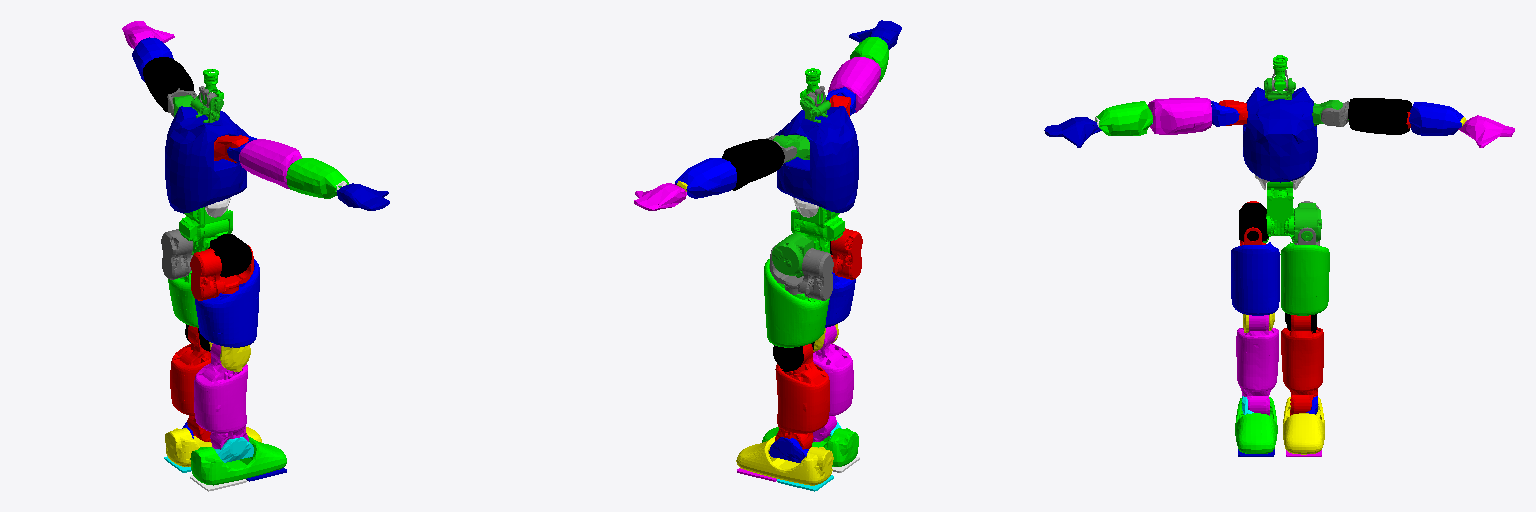
--- Facts derived from the render (not from the file) ---
3 views of the same robot in one strip: view 1: azimuth 30°, elevation 25°; view 2: azimuth 150°, elevation 25°; view 3: azimuth 270°, elevation 25° (orthographic).
Robot: iCub — 48 links, 47 joints (32 revolute, 15 fixed); root link root_link; default pose: all joints at 0 but 2 set to mid-range because 0 is outside their limits (r_shoulder_roll = 1.53, l_shoulder_roll = 1.53).
Visible links, largest first — view 1: chest, r_lower_leg, r_hip_3, r_ankle_2, l_lower_leg, r_upper_arm, r_hip_2, r_forearm, l_upper_arm, l_hip_2, r_hip_1, l_ankle_2 (+10 smaller); view 2: chest, l_lower_leg, l_hip_3, l_ankle_2, r_lower_leg, l_upper_arm, l_hip_2, l_forearm, r_upper_arm, r_hip_2, l_hip_1, r_ankle_2 (+8 smaller); view 3: chest, r_lower_leg, r_hip_3, l_lower_leg, l_hip_3, r_upper_arm, l_upper_arm, l_ankle_2, r_ankle_2, r_forearm, l_forearm, l_hand (+5 smaller).
Boxes of the visible links, box(x1,y1,x2,y2) form: chest: box(165, 106, 248, 213); r_lower_leg: box(194, 343, 248, 449); r_hip_3: box(195, 259, 259, 347); r_ankle_2: box(190, 436, 286, 485); l_lower_leg: box(170, 325, 210, 441); r_upper_arm: box(239, 139, 301, 188); r_hip_2: box(190, 245, 253, 300); r_forearm: box(286, 158, 348, 198); l_upper_arm: box(143, 57, 194, 111); l_hip_2: box(161, 229, 192, 279); r_hip_1: box(208, 234, 251, 277); l_ankle_2: box(165, 427, 261, 466); chest: box(775, 106, 858, 212); l_lower_leg: box(775, 344, 829, 449); l_hip_3: box(764, 259, 829, 347); l_ankle_2: box(736, 436, 833, 485); r_lower_leg: box(813, 325, 853, 441); l_upper_arm: box(722, 139, 784, 190); l_hip_2: box(770, 245, 833, 300); l_forearm: box(675, 158, 736, 198); r_upper_arm: box(828, 57, 880, 112); r_hip_2: box(831, 228, 862, 279); l_hip_1: box(772, 233, 813, 277); r_ankle_2: box(762, 427, 858, 466); chest: box(1243, 87, 1317, 182); r_lower_leg: box(1236, 315, 1278, 415); r_hip_3: box(1231, 242, 1279, 315); l_lower_leg: box(1281, 315, 1323, 415); l_hip_3: box(1280, 242, 1329, 315); r_upper_arm: box(1148, 97, 1211, 134); l_upper_arm: box(1348, 98, 1411, 134); l_ankle_2: box(1283, 397, 1324, 454); r_ankle_2: box(1235, 397, 1277, 453); r_forearm: box(1096, 101, 1152, 135); l_forearm: box(1409, 102, 1463, 135); l_hand: box(1458, 115, 1514, 147).
Bounding box of the posed robot: 0.3292 × 1.28 × 1.13 m (x, y, z).
41 mesh visuals loaded from 42 distinct referenced files (41 ASCII STL); not drawn: 1 (reference not matched to a file when rendering).

The robot description file, URDF, robot "iCub":
<?xml version="1.0" ?>
<robot name="iCub">
  <link name="root_link">
    <inertial>
      <origin xyz="0.00317113 -0.00014949699999999998 0.025427000000000033" rpy="0 0 -1.5707963267948966"/>
      <mass value="2.52649319"/>
      <inertia ixx="0.004052537258277314" ixy="-2.0916736253220285e-06" ixz="-1.1533334776339305e-05" iyy="0.004338170443113407" iyz="0.0001520237016342299" izz="0.0023554026859211635"/>
    </inertial>
    <visual>
      <origin xyz="0 0 0.313858" rpy="0 0 -1.5707963267948966"/>
      <geometry>
        <mesh filename="package://icub_description/meshes/simmechanics/sim_icub3_root_link_prt.stl" scale="0.001 0.001 0.001"/>
      </geometry>
      <material name="green">
        <color rgba="0 1 0 1"/>
      </material>
    </visual>
    <collision>
      <origin xyz="0 0 0.313858" rpy="0 0 -1.5707963267948966"/>
      <geometry>
        <mesh filename="package://icub_description/meshes/simmechanics/sim_icub3_root_link_prt.stl" scale="0.001 0.001 0.001"/>
      </geometry>
    </collision>
  </link>
  <link name="r_hip_1">
    <inertial>
      <origin xyz="-0.002814900000000002 -0.0288454 -0.0006279999999999619" rpy="0 0 -1.5707963267948966"/>
      <mass value="2.134290199"/>
      <inertia ixx="0.0026435421721158216" ixy="3.8119607441411114e-05" ixz="-3.6217277756713986e-06" iyy="0.0020429284372709845" iyz="1.1023562629489777e-05" izz="0.002171950916930118"/>
    </inertial>
    <visual>
      <origin xyz="-0.0216 0.04054999999999986 0.313858" rpy="0 0 -1.5707963267948966"/>
      <geometry>
        <mesh filename="package://icub_description/meshes/simmechanics/sim_icub3_r_hip_1_prt.stl" scale="0.001 0.001 0.001"/>
      </geometry>
      <material name="black">
        <color rgba="0 0 0 1"/>
      </material>
    </visual>
    <collision>
      <origin xyz="-0.0216 0.04054999999999986 0.313858" rpy="0 0 -1.5707963267948966"/>
      <geometry>
        <mesh filename="package://icub_description/meshes/simmechanics/sim_icub3_r_hip_1_prt.stl" scale="0.001 0.001 0.001"/>
      </geometry>
    </collision>
  </link>
  <joint name="r_hip_pitch" type="revolute">
    <origin xyz="0.0216 -0.040549999999999996 0" rpy="0 0 0"/>
    <axis xyz="0.0 -1.0 0.0"/>
    <parent link="root_link"/>
    <child link="r_hip_1"/>
    <limit effort="50000" lower="-0.7853981633974483" upper="2.007128639793479" velocity="120.0"/>
    <dynamics damping="2.0" friction="0.0"/>
  </joint>
  <link name="r_hip_2">
    <inertial>
      <origin xyz="-0.005953899999999998 -6.729999999999237e-05 -0.03664600000000001" rpy="0 0 -1.5707963267948966"/>
      <mass value="1.779000764"/>
      <inertia ixx="0.005017321245620606" ixy="4.276118215983818e-06" ixz="-3.0414292646883787e-06" iyy="0.002992476006025625" iyz="0.0010524477725526635" izz="0.003048721181695524"/>
    </inertial>
    <visual>
      <origin xyz="0.025699999999999973 0.07364999999999984 0.3228580000000001" rpy="0 0 -1.5707963267948966"/>
      <geometry>
        <mesh filename="package://icub_description/meshes/simmechanics/sim_icub3_r_hip_2_prt.stl" scale="0.001 0.001 0.001"/>
      </geometry>
      <material name="red">
        <color rgba="1 0 0 1"/>
      </material>
    </visual>
    <collision>
      <origin xyz="0.025699999999999973 0.07364999999999984 0.3228580000000001" rpy="0 0 -1.5707963267948966"/>
      <geometry>
        <mesh filename="package://icub_description/meshes/simmechanics/sim_icub3_r_hip_2_prt.stl" scale="0.001 0.001 0.001"/>
      </geometry>
    </collision>
  </link>
  <joint name="r_hip_roll" type="revolute">
    <origin xyz="-0.0473 -0.03310000000000001 -0.009000000000000008" rpy="0 0 0"/>
    <axis xyz="-1.0 0.0 0.0"/>
    <parent link="r_hip_1"/>
    <child link="r_hip_2"/>
    <limit effort="50000" lower="-0.17453292519943295" upper="2.007128639793479" velocity="120.0"/>
    <dynamics damping="2.0" friction="0.0"/>
  </joint>
  <link name="r_hip_3">
    <inertial>
      <origin xyz="0.002330500000000001 0.012397400000000003 -0.038593000000000044" rpy="0 0 -1.5707963267948966"/>
      <mass value="2.1678368"/>
      <inertia ixx="0.003915863467597387" ixy="-2.601086379959252e-06" ixz="0.00012293074975119214" iyy="0.0036779729507837693" iyz="3.1782922099252663e-06" izz="0.0036465259675847357"/>
    </inertial>
    <visual>
      <origin xyz="-0.011000000000000025 0.07364999999999984 0.41255800000000004" rpy="0 0 -1.5707963267948966"/>
      <geometry>
        <mesh filename="package://icub_description/meshes/simmechanics/sim_icub3_r_hip_3_prt.stl" scale="0.001 0.001 0.001"/>
      </geometry>
      <material name="blue">
        <color rgba="0 0 1 1"/>
      </material>
    </visual>
    <collision>
      <origin xyz="-0.011000000000000025 0.07364999999999984 0.41255800000000004" rpy="0 0 -1.5707963267948966"/>
      <geometry>
        <mesh filename="package://icub_description/meshes/simmechanics/sim_icub3_r_hip_3_prt.stl" scale="0.001 0.001 0.001"/>
      </geometry>
    </collision>
  </link>
  <joint name="r_leg_ft_sensor" type="fixed">
    <origin xyz="0.036699999999999997 0 -0.08969999999999995" rpy="0 0 0"/>
    <parent link="r_hip_2"/>
    <child link="r_hip_3"/>
    <dynamics damping="0.1"/>
  </joint>
  <link name="r_upper_leg">
    <inertial>
      <origin xyz="0.006267499999999999 -0.004376999999999999 -0.05732899999999996" rpy="0 0 -1.5707963267948966"/>
      <mass value="0.980691904"/>
      <inertia ixx="0.00218281785834479" ixy="-4.919689000647147e-05" ixz="0.00024386118755841528" iyy="0.0026930250628850057" iyz="0.00027207835277447823" izz="0.0011180088209673262"/>
    </inertial>
    <visual>
      <origin xyz="-0.011000000000000012 0.05864999999999984 0.48345800000000005" rpy="0 0 -1.5707963267948966"/>
      <geometry>
        <mesh filename="package://icub_description/meshes/simmechanics/sim_icub3_r_upper_leg_prt.stl" scale="0.001 0.001 0.001"/>
      </geometry>
      <material name="yellow">
        <color rgba="1 1 0 1"/>
      </material>
    </visual>
    <collision>
      <origin xyz="-0.011000000000000012 0.05864999999999984 0.48345800000000005" rpy="0 0 -1.5707963267948966"/>
      <geometry>
        <mesh filename="package://icub_description/meshes/simmechanics/sim_icub3_r_upper_leg_prt.stl" scale="0.001 0.001 0.001"/>
      </geometry>
    </collision>
  </link>
  <joint name="r_hip_yaw" type="revolute">
    <origin xyz="0 0.015000000000000006 -0.07090000000000007" rpy="0 0 0"/>
    <axis xyz="0.0 0.0 -1.0"/>
    <parent link="r_hip_3"/>
    <child link="r_upper_leg"/>
    <limit effort="50000" lower="-1.3962634015954636" upper="1.3962634015954636" velocity="120.0"/>
    <dynamics damping="2.0" friction="0.0"/>
  </joint>
  <link name="r_lower_leg">
    <inertial>
      <origin xyz="-0.012638400000000003 0.022404399999999998 -0.12942700000000007" rpy="0 0 -1.5707963267948966"/>
      <mass value="5.074105512"/>
      <inertia ixx="0.05708057777820247" ixy="-7.655169857870125e-05" ixz="9.837467541293897e-05" iyy="0.05456396792571687" iyz="1.958555944612649e-05" izz="0.005675806886779712"/>
    </inertial>
    <visual>
      <origin xyz="-0.026000000000000037 0.0835499999999998 0.589658" rpy="0 0 -1.5707963267948966"/>
      <geometry>
        <mesh filename="package://icub_description/meshes/simmechanics/sim_icub3_r_lower_leg_prt.stl" scale="0.001 0.001 0.001"/>
      </geometry>
      <material name="pink">
        <color rgba="1 0 1 1"/>
      </material>
    </visual>
    <collision>
      <origin xyz="-0.026000000000000037 0.0835499999999998 0.589658" rpy="0 0 -1.5707963267948966"/>
      <geometry>
        <mesh filename="package://icub_description/meshes/simmechanics/sim_icub3_r_lower_leg_prt.stl" scale="0.001 0.001 0.001"/>
      </geometry>
    </collision>
  </link>
  <joint name="r_knee" type="revolute">
    <origin xyz="0.015000000000000003 -0.0249 -0.10619999999999996" rpy="0 0 0"/>
    <axis xyz="0.0 -1.0 0.0"/>
    <parent link="r_upper_leg"/>
    <child link="r_lower_leg"/>
    <limit effort="50000" lower="-1.2217304763960306" upper="0.08726646259971647" velocity="120.0"/>
    <dynamics damping="2.0" friction="0.0"/>
  </joint>
  <link name="r_ankle_1">
    <inertial>
      <origin xyz="-0.005962499999999999 0.0010981000000000046 -0.015748999999999902" rpy="0 0 -1.5707963267948966"/>
      <mass value="0.346176903"/>
      <inertia ixx="0.01" ixy="-3.4912488034212415e-05" ixz="-5.635271015717806e-05" iyy="0.01" iyz="-2.51373469956309e-05" izz="0.01"/>
    </inertial>
    <visual>
      <origin xyz="-0.026000000000000245 0.08304999999999924 0.8456470000000003" rpy="0 0 -1.5707963267948966"/>
      <geometry>
        <mesh filename="package://icub_description/meshes/simmechanics/sim_icub3_r_ankle_1_prt.stl" scale="0.001 0.001 0.001"/>
      </geometry>
      <material name="cyan">
        <color rgba="0 1 1 1"/>
      </material>
    </visual>
    <collision>
      <origin xyz="-0.026000000000000245 0.08304999999999924 0.8456470000000003" rpy="0 0 -1.5707963267948966"/>
      <geometry>
        <mesh filename="package://icub_description/meshes/simmechanics/sim_icub3_r_ankle_1_prt.stl" scale="0.001 0.001 0.001"/>
      </geometry>
    </collision>
  </link>
  <joint name="r_ankle_pitch" type="revolute">
    <origin xyz="0 0.0005000000000000004 -0.255989" rpy="0 0 0"/>
    <axis xyz="0.0 1.0 0.0"/>
    <parent link="r_lower_leg"/>
    <child link="r_ankle_1"/>
    <limit effort="50000" lower="-0.7853981633974483" upper="0.7853981633974483" velocity="120.0"/>
    <dynamics damping="2.0" friction="0.0"/>
  </joint>
  <link name="r_ankle_2">
    <inertial>
      <origin xyz="0.0429772 4.709999999999437e-05 -0.025934000000000013" rpy="0 0 -1.5707963267948966"/>
      <mass value="1.00828013"/>
      <inertia ixx="0.01" ixy="-4.017870761480629e-06" ixz="1.0016003725188637e-06" iyy="0.01" iyz="0.0007932901510502437" izz="0.01"/>
    </inertial>
    <visual>
      <origin xyz="0.026749999999999875 0.0648499999999391 0.8806470000000108" rpy="0 0 -1.5707963267948966"/>
      <geometry>
        <mesh filename="package://icub_description/meshes/simmechanics/sim_icub3_r_ankle_2_prt.stl" scale="0.001 0.001 0.001"/>
      </geometry>
      <material name="green">
        <color rgba="0 1 0 1"/>
      </material>
    </visual>
    <collision>
      <origin xyz="0.026749999999999875 0.0648499999999391 0.8806470000000108" rpy="0 0 -1.5707963267948966"/>
      <geometry>
        <mesh filename="package://icub_description/meshes/simmechanics/sim_icub3_r_ankle_2_prt.stl" scale="0.001 0.001 0.001"/>
      </geometry>
    </collision>
  </link>
  <joint name="r_ankle_roll" type="revolute">
    <origin xyz="-0.052750000000000005 0.018200000000000008 -0.03500000000000003" rpy="0 0 0"/>
    <axis xyz="-1.0 0.0 0.0"/>
    <parent link="r_ankle_1"/>
    <child link="r_ankle_2"/>
    <limit effort="50000" lower="-0.4363323129985824" upper="0.4363323129985824" velocity="120.0"/>
    <dynamics damping="2.0" friction="0.0"/>
  </joint>
  <link name="r_foot_rear">
    <inertial>
      <origin xyz="0.0006180999999999999 7.079999999998199e-05 0.003514000000000017" rpy="0 0 -1.5707963267948966"/>
      <mass value="0.174817799"/>
      <inertia ixx="0.01" ixy="1.562267208574721e-07" ixz="2.7893615940874046e-06" iyy="0.01" iyz="-1.261530014304943e-06" izz="0.01"/>
    </inertial>
    <visual>
      <origin xyz="0.010749999999999881 0.0648499999999391 0.9464470000000105" rpy="0 0 -1.5707963267948966"/>
      <geometry>
        <mesh filename="package://icub_description/meshes/simmechanics/sim_icub3_r_foot_rear_prt.stl" scale="0.001 0.001 0.001"/>
      </geometry>
      <material name="white">
        <color rgba="1 1 1 1"/>
      </material>
    </visual>
    <collision>
      <origin xyz="0.0 0.0 0.003" rpy="0.0 0.0 0.0"/>
      <geometry>
        <box size="0.117 0.1 0.006"/>
      </geometry>
    </collision>
  </link>
  <joint name="r_foot_rear_ft_sensor" type="fixed">
    <origin xyz="0.016 0 -0.06579999999999997" rpy="0 0 0"/>
    <parent link="r_ankle_2"/>
    <child link="r_foot_rear"/>
    <dynamics damping="0.1"/>
  </joint>
  <link name="r_sole"/>
  <joint name="r_sole_fixed_joint" type="fixed">
    <origin xyz="0.05963000000000001 0 0" rpy="0 0 0"/>
    <parent link="r_foot_rear"/>
    <child link="r_sole"/>
    <dynamics damping="0.1"/>
  </joint>
  <link name="r_foot_front">
    <inertial>
      <origin xyz="-0.0004180000000000017 0.0004849999999999993 0.005581000000000058" rpy="0 0 -1.5707963267948966"/>
      <mass value="0.17569926"/>
      <inertia ixx="0.01" ixy="-1.136706769061166e-05" ixz="2.9035165024379218e-05" iyy="0.01" iyz="6.901558256730527e-05" izz="0.01"/>
    </inertial>
    <visual>
      <origin xyz="-0.10850000000000011 0.06484999999993908 0.9464470000000105" rpy="0 0 -1.5707963267948966"/>
      <geometry>
        <mesh filename="package://icub_description/meshes/simmechanics/sim_icub3_r_foot_front_prt.stl" scale="0.001 0.001 0.001"/>
      </geometry>
      <material name="dblue">
        <color rgba="0 0 0.8 1"/>
      </material>
    </visual>
    <collision>
      <origin xyz="0.0 0.0 0.003" rpy="0.0 0.0 0.0"/>
      <geometry>
        <box size="0.117 0.1 0.006"/>
      </geometry>
    </collision>
  </link>
  <joint name="r_foot_front_ft_sensor" type="fixed">
    <origin xyz="0.13525 0 -0.06579999999999997" rpy="0 0 0"/>
    <parent link="r_ankle_2"/>
    <child link="r_foot_front"/>
    <dynamics damping="0.1"/>
  </joint>
  <link name="l_hip_1">
    <inertial>
      <origin xyz="-0.0022035000000000006 0.02879769999999999 -0.0004929999999999657" rpy="0 0 -1.5707963267948966"/>
      <mass value="2.108461113"/>
      <inertia ixx="0.002494176095266037" ixy="-3.149332612725099e-05" ixz="-6.185191269212846e-08" iyy="0.0019487861002349385" iyz="1.6856055884649114e-05" izz="0.002100980041206055"/>
    </inertial>
    <visual>
      <origin xyz="-0.02159999999999998 -0.040449999999999674 0.3138580000000002" rpy="0 0 -1.5707963267948966"/>
      <geometry>
        <mesh filename="package://icub_description/meshes/simmechanics/sim_icub3_l_hip_1_prt.stl" scale="0.001 0.001 0.001"/>
      </geometry>
      <material name="dgreen">
        <color rgba="0.1 0.8 0.1 1"/>
      </material>
    </visual>
    <collision>
      <origin xyz="-0.02159999999999998 -0.040449999999999674 0.3138580000000002" rpy="0 0 -1.5707963267948966"/>
      <geometry>
        <mesh filename="package://icub_description/meshes/simmechanics/sim_icub3_l_hip_1_prt.stl" scale="0.001 0.001 0.001"/>
      </geometry>
    </collision>
  </link>
  <joint name="l_hip_pitch" type="revolute">
    <origin xyz="0.0216 0.04045000000000001 0" rpy="0 0 0"/>
    <axis xyz="0.0 -1.0 0.0"/>
    <parent link="root_link"/>
    <child link="l_hip_1"/>
    <limit effort="50000" lower="-0.7853981633974483" upper="2.007128639793479" velocity="120.0"/>
    <dynamics damping="2.0" friction="0.0"/>
  </joint>
  <link name="l_hip_2">
    <inertial>
      <origin xyz="-0.005948600000000005 8.049999999999724e-05 -0.03665299999999999" rpy="0 0 -1.5707963267948966"/>
      <mass value="1.781270621"/>
      <inertia ixx="0.005016924019346909" ixy="-3.6012233957638846e-06" ixz="2.765821282814272e-06" iyy="0.002993346117312504" iyz="0.0010518897656770735" izz="0.0030501492995877824"/>
    </inertial>
    <visual>
      <origin xyz="0.025649999999999923 -0.07354999999999969 0.32285800000000037" rpy="0 0 -1.5707963267948966"/>
      <geometry>
        <mesh filename="package://icub_description/meshes/simmechanics/sim_icub3_l_hip_2_prt.stl" scale="0.001 0.001 0.001"/>
      </geometry>
      <material name="gray">
        <color rgba="0.5 0.5 0.5 1"/>
      </material>
    </visual>
    <collision>
      <origin xyz="0.025649999999999923 -0.07354999999999969 0.32285800000000037" rpy="0 0 -1.5707963267948966"/>
      <geometry>
        <mesh filename="package://icub_description/meshes/simmechanics/sim_icub3_l_hip_2_prt.stl" scale="0.001 0.001 0.001"/>
      </geometry>
    </collision>
  </link>
  <joint name="l_hip_roll" type="revolute">
    <origin xyz="-0.04725 0.0331 -0.009000000000000008" rpy="0 0 0"/>
    <axis xyz="1.0 0.0 0.0"/>
    <parent link="l_hip_1"/>
    <child link="l_hip_2"/>
    <limit effort="50000" lower="-0.17453292519943295" upper="2.007128639793479" velocity="120.0"/>
    <dynamics damping="2.0" friction="0.0"/>
  </joint>
  <link name="l_hip_3">
    <inertial>
      <origin xyz="0.002293400000000001 -0.012390400000000003 -0.038493" rpy="0 0 -1.5707963267948966"/>
      <mass value="2.169151426"/>
      <inertia ixx="0.003885797314760429" ixy="4.89921299719944e-06" ixz="-0.00013036358708752834" iyy="0.0036443128569834836" iyz="6.411637921060423e-06" izz="0.003646497594763865"/>
    </inertial>
    <visual>
      <origin xyz="-0.011050000000000072 -0.07354999999999969 0.4125580000000003" rpy="0 0 -1.5707963267948966"/>
      <geometry>
        <mesh filename="package://icub_description/meshes/simmechanics/sim_icub3_l_hip_3_prt.stl" scale="0.001 0.001 0.001"/>
      </geometry>
      <material name="green">
        <color rgba="0 1 0 1"/>
      </material>
    </visual>
    <collision>
      <origin xyz="-0.011050000000000072 -0.07354999999999969 0.4125580000000003" rpy="0 0 -1.5707963267948966"/>
      <geometry>
        <mesh filename="package://icub_description/meshes/simmechanics/sim_icub3_l_hip_3_prt.stl" scale="0.001 0.001 0.001"/>
      </geometry>
    </collision>
  </link>
  <joint name="l_leg_ft_sensor" type="fixed">
    <origin xyz="0.036699999999999997 0 -0.08969999999999995" rpy="0 0 0"/>
    <parent link="l_hip_2"/>
    <child link="l_hip_3"/>
    <dynamics damping="0.1"/>
  </joint>
  <link name="l_upper_leg">
    <inertial>
      <origin xyz="0.006410100000000002 0.0044995000000000104 -0.05761399999999994" rpy="0 0 -1.5707963267948966"/>
      <mass value="0.968264435"/>
      <inertia ixx="0.0021371558939666238" ixy="5.0592852351204366e-05" ixz="-0.00024733406954523924" iyy="0.002651562334995458" iyz="0.0002558564384367833" izz="0.0011079552445972768"/>
    </inertial>
    <visual>
      <origin xyz="-0.01105 -0.058549999999999776 0.48345800000000044" rpy="0 0 -1.5707963267948966"/>
      <geometry>
        <mesh filename="package://icub_description/meshes/simmechanics/sim_icub3_l_upper_leg_prt.stl" scale="0.001 0.001 0.001"/>
      </geometry>
      <material name="black">
        <color rgba="0 0 0 1"/>
      </material>
    </visual>
    <collision>
      <origin xyz="-0.01105 -0.058549999999999776 0.48345800000000044" rpy="0 0 -1.5707963267948966"/>
      <geometry>
        <mesh filename="package://icub_description/meshes/simmechanics/sim_icub3_l_upper_leg_prt.stl" scale="0.001 0.001 0.001"/>
      </geometry>
    </collision>
  </link>
  <joint name="l_hip_yaw" type="revolute">
    <origin xyz="0 -0.015000000000000006 -0.07090000000000007" rpy="0 0 0"/>
    <axis xyz="0.0 0.0 1.0"/>
    <parent link="l_hip_3"/>
    <child link="l_upper_leg"/>
    <limit effort="50000" lower="-1.3962634015954636" upper="1.3962634015954636" velocity="120.0"/>
    <dynamics damping="2.0" friction="0.0"/>
  </joint>
  <link name="l_lower_leg">
    <inertial>
      <origin xyz="-0.012714199999999998 -0.022607400000000014 -0.12817599999999996" rpy="0 0 -1.5707963267948966"/>
      <mass value="5.063049414"/>
      <inertia ixx="0.0567854017259985" ixy="6.344497428140121e-05" ixz="-0.00012637525838973313" iyy="0.054305487902395026" iyz="-5.473978729135758e-05" izz="0.005671522530034296"/>
    </inertial>
    <visual>
      <origin xyz="-0.026050000000000094 -0.08344999999999987 0.5896580000000003" rpy="0 0 -1.5707963267948966"/>
      <geometry>
        <mesh filename="package://icub_description/meshes/simmechanics/sim_icub3_l_lower_leg_prt.stl" scale="0.001 0.001 0.001"/>
      </geometry>
      <material name="red">
        <color rgba="1 0 0 1"/>
      </material>
    </visual>
    <collision>
      <origin xyz="-0.026050000000000094 -0.08344999999999987 0.5896580000000003" rpy="0 0 -1.5707963267948966"/>
      <geometry>
        <mesh filename="package://icub_description/meshes/simmechanics/sim_icub3_l_lower_leg_prt.stl" scale="0.001 0.001 0.001"/>
      </geometry>
    </collision>
  </link>
  <joint name="l_knee" type="revolute">
    <origin xyz="0.015 0.024900000000000012 -0.10619999999999996" rpy="0 0 0"/>
    <axis xyz="0.0 -1.0 0.0"/>
    <parent link="l_upper_leg"/>
    <child link="l_lower_leg"/>
    <limit effort="50000" lower="-1.2217304763960306" upper="0.08726646259971647" velocity="120.0"/>
    <dynamics damping="2.0" friction="0.0"/>
  </joint>
  <link name="l_ankle_1">
    <inertial>
      <origin xyz="-0.005967799999999999 -0.0010993000000000114 -0.015761000000000025" rpy="0 0 -1.5707963267948966"/>
      <mass value="0.346176903"/>
      <inertia ixx="0.01" ixy="3.500555218899747e-05" ixz="5.595236405229479e-05" iyy="0.01" iyz="-2.5797402621896045e-05" izz="0.01"/>
    </inertial>
    <visual>
      <origin xyz="-0.026050000000000184 -0.08294999999999977 0.8456470000000004" rpy="0 0 -1.5707963267948966"/>
      <geometry>
        <mesh filename="package://icub_description/meshes/simmechanics/sim_icub3_l_ankle_1_prt.stl" scale="0.001 0.001 0.001"/>
      </geometry>
      <material name="blue">
        <color rgba="0 0 1 1"/>
      </material>
    </visual>
    <collision>
      <origin xyz="-0.026050000000000184 -0.08294999999999977 0.8456470000000004" rpy="0 0 -1.5707963267948966"/>
      <geometry>
        <mesh filename="package://icub_description/meshes/simmechanics/sim_icub3_l_ankle_1_prt.stl" scale="0.001 0.001 0.001"/>
      </geometry>
    </collision>
  </link>
  <joint name="l_ankle_pitch" type="revolute">
    <origin xyz="0 -0.0005000000000000004 -0.255989" rpy="0 0 0"/>
    <axis xyz="0.0 1.0 0.0"/>
    <parent link="l_lower_leg"/>
    <child link="l_ankle_1"/>
    <limit effort="50000" lower="-0.7853981633974483" upper="0.7853981633974483" velocity="120.0"/>
    <dynamics damping="2.0" friction="0.0"/>
  </joint>
  <link name="l_ankle_2">
    <inertial>
      <origin xyz="0.0429784 -5.8499999999989116e-05 -0.02598899999999993" rpy="0 0 -1.5707963267948966"/>
      <mass value="1.011533592"/>
      <inertia ixx="0.01" ixy="3.898018973804329e-06" ixz="-2.6222640395637156e-06" iyy="0.01" iyz="0.0007906528913743961" izz="0.01"/>
    </inertial>
    <visual>
      <origin xyz="0.026700000000000015 -0.06475000000001183 0.8806469999999995" rpy="0 0 -1.5707963267948966"/>
      <geometry>
        <mesh filename="package://icub_description/meshes/simmechanics/sim_icub3_l_ankle_2_prt.stl" scale="0.001 0.001 0.001"/>
      </geometry>
      <material name="yellow">
        <color rgba="1 1 0 1"/>
      </material>
    </visual>
    <collision>
      <origin xyz="0.026700000000000015 -0.06475000000001183 0.8806469999999995" rpy="0 0 -1.5707963267948966"/>
      <geometry>
        <mesh filename="package://icub_description/meshes/simmechanics/sim_icub3_l_ankle_2_prt.stl" scale="0.001 0.001 0.001"/>
      </geometry>
    </collision>
  </link>
  <joint name="l_ankle_roll" type="revolute">
    <origin xyz="-0.052750000000000005 -0.018200000000000008 -0.03500000000000003" rpy="0 0 0"/>
    <axis xyz="1.0 0.0 0.0"/>
    <parent link="l_ankle_1"/>
    <child link="l_ankle_2"/>
    <limit effort="50000" lower="-0.4363323129985824" upper="0.4363323129985824" velocity="120.0"/>
    <dynamics damping="2.0" friction="0.0"/>
  </joint>
  <link name="l_foot_front">
    <inertial>
      <origin xyz="7.700000000000762e-05 -3.990000000000937e-05 0.004256999999999955" rpy="0 0 -1.5707963267948966"/>
      <mass value="0.175038164"/>
      <inertia ixx="0.01" ixy="3.468975818270962e-07" ixz="2.6549198249941107e-07" iyy="0.01" iyz="3.419436179908361e-05" izz="0.01"/>
    </inertial>
    <visual>
      <origin xyz="-0.10854999999999998 -0.06475000000001183 0.9464469999999993" rpy="0 0 -1.5707963267948966"/>
      <geometry>
        <mesh filename="package://icub_description/meshes/simmechanics/sim_icub3_l_foot_front_prt.stl" scale="0.001 0.001 0.001"/>
      </geometry>
      <material name="pink">
        <color rgba="1 0 1 1"/>
      </material>
    </visual>
    <collision>
      <origin xyz="0.0 0.0 0.003" rpy="0.0 0.0 0.0"/>
      <geometry>
        <box size="0.117 0.1 0.006"/>
      </geometry>
    </collision>
  </link>
  <joint name="l_foot_front_ft_sensor" type="fixed">
    <origin xyz="0.13524999999999998 0 -0.06579999999999997" rpy="0 0 0"/>
    <parent link="l_ankle_2"/>
    <child link="l_foot_front"/>
    <dynamics damping="0.1"/>
  </joint>
  <link name="l_foot_rear">
    <inertial>
      <origin xyz="0.0005056000000000001 3.350000000000575e-05 0.003658999999999968" rpy="0 0 -1.5707963267948966"/>
      <mass value="0.174597434"/>
      <inertia ixx="0.01" ixy="-3.730425576901001e-07" ixz="3.3038909914027564e-06" iyy="0.01" iyz="7.963142231236676e-06" izz="0.01"/>
    </inertial>
    <visual>
      <origin xyz="0.010700000000000006 -0.06475000000001183 0.9464469999999993" rpy="0 0 -1.5707963267948966"/>
      <geometry>
        <mesh filename="package://icub_description/meshes/simmechanics/sim_icub3_l_foot_rear_prt.stl" scale="0.001 0.001 0.001"/>
      </geometry>
      <material name="cyan">
        <color rgba="0 1 1 1"/>
      </material>
    </visual>
    <collision>
      <origin xyz="0.0 0.0 0.003" rpy="0.0 0.0 0.0"/>
      <geometry>
        <box size="0.117 0.1 0.006"/>
      </geometry>
    </collision>
  </link>
  <joint name="l_foot_rear_ft_sensor" type="fixed">
    <origin xyz="0.016 0 -0.06579999999999997" rpy="0 0 0"/>
    <parent link="l_ankle_2"/>
    <child link="l_foot_rear"/>
    <dynamics damping="0.1"/>
  </joint>
  <link name="l_sole"/>
  <joint name="l_sole_fixed_joint" type="fixed">
    <origin xyz="0.05963 0 0" rpy="0 0 0"/>
    <parent link="l_foot_rear"/>
    <child link="l_sole"/>
    <dynamics damping="0.1"/>
  </joint>
  <link name="torso_1">
    <inertial>
      <origin xyz="-0.00752632 0.000684313 0.05308400000000002" rpy="0 0 -1.5707963267948966"/>
      <mass value="1.714262538"/>
      <inertia ixx="0.0033513877542161704" ixy="5.189868240267766e-06" ixz="7.72546923286231e-06" iyy="0.002577063721714248" iyz="-0.0003083355422269907" izz="0.002042143444277807"/>
    </inertial>
    <visual>
      <origin xyz="0 0 0.25335800000000014" rpy="0 0 -1.5707963267948966"/>
      <geometry>
        <mesh filename="package://icub_description/meshes/simmechanics/sim_icub3_torso_1_prt.stl" scale="0.001 0.001 0.001"/>
      </geometry>
      <material name="green">
        <color rgba="0 1 0 1"/>
      </material>
    </visual>
    <collision>
      <origin xyz="0 0 0.25335800000000014" rpy="0 0 -1.5707963267948966"/>
      <geometry>
        <mesh filename="package://icub_description/meshes/simmechanics/sim_icub3_torso_1_prt.stl" scale="0.001 0.001 0.001"/>
      </geometry>
    </collision>
  </link>
  <joint name="torso_roll" type="revolute">
    <origin xyz="0 0 0.0605" rpy="0 0 0"/>
    <axis xyz="-1.0 0.0 0.0"/>
    <parent link="root_link"/>
    <child link="torso_1"/>
    <limit effort="50000" lower="-0.4014257279586958" upper="0.4014257279586958" velocity="120.0"/>
    <dynamics damping="2.0" friction="0.0"/>
  </joint>
  <link name="torso_2">
    <inertial>
      <origin xyz="0.0006802240000000001 0.0015534 0.05118500000000001" rpy="0 0 -1.5707963267948966"/>
      <mass value="1.374672951"/>
      <inertia ixx="0.0021403904410333815" ixy="-1.6823426685005056e-06" ixz="-0.00011213001148794212" iyy="0.002710313811866755" iyz="1.3971067086438227e-05" izz="0.0015476455452444666"/>
    </inertial>
    <visual>
      <origin xyz="0 0 0.18085800000000013" rpy="0 0 -1.5707963267948966"/>
      <geometry>
        <mesh filename="package://icub_description/meshes/simmechanics/sim_icub3_torso_2_prt.stl" scale="0.001 0.001 0.001"/>
      </geometry>
      <material name="white">
        <color rgba="1 1 1 1"/>
      </material>
    </visual>
    <collision>
      <origin xyz="0 0 0.18085800000000013" rpy="0 0 -1.5707963267948966"/>
      <geometry>
        <mesh filename="package://icub_description/meshes/simmechanics/sim_icub3_torso_2_prt.stl" scale="0.001 0.001 0.001"/>
      </geometry>
    </collision>
  </link>
  <joint name="torso_pitch" type="revolute">
    <origin xyz="0 0 0.07250000000000001" rpy="0 0 0"/>
    <axis xyz="0.0 1.0 0.0"/>
    <parent link="torso_1"/>
    <child link="torso_2"/>
    <limit effort="50000" lower="-0.3141592653589793" upper="0.7853981633974483" velocity="120.0"/>
    <dynamics damping="2.0" friction="0.0"/>
  </joint>
  <link name="chest">
    <inertial>
      <origin xyz="-0.00433942 -6.07081e-05 0.06080120000000001" rpy="0 0 -1.5707963267948966"/>
      <mass value="5.771074695"/>
      <inertia ixx="0.028334441193895898" ixy="5.239833478049791e-05" ixz="0.0001456075712956853" iyy="0.02463845124958448" iyz="-0.00252919810357917" izz="0.024688861000098004"/>
    </inertial>
    <visual>
      <origin xyz="0 0 0.11638800000000013" rpy="0 0 -1.5707963267948966"/>
      <geometry>
        <mesh filename="package://icub_description/meshes/simmechanics/sim_icub3_chest_prt.stl" scale="0.001 0.001 0.001"/>
      </geometry>
      <material name="dblue">
        <color rgba="0 0 0.8 1"/>
      </material>
    </visual>
    <collision>
      <origin xyz="0 0 0.11638800000000013" rpy="0 0 -1.5707963267948966"/>
      <geometry>
        <mesh filename="package://icub_description/meshes/simmechanics/sim_icub3_chest_prt.stl" scale="0.001 0.001 0.001"/>
      </geometry>
    </collision>
  </link>
  <joint name="torso_yaw" type="revolute">
    <origin xyz="0 0 0.06447000000000001" rpy="0 0 0"/>
    <axis xyz="0.0 0.0 -1.0"/>
    <parent link="torso_2"/>
    <child link="chest"/>
    <limit effort="50000" lower="-0.7504915783575618" upper="0.7504915783575618" velocity="120.0"/>
    <dynamics damping="2.0" friction="0.0"/>
  </joint>
  <link name="chest_depth_frame"/>
  <joint name="chest_depth_frame_fixed_joint" type="fixed">
    <origin xyz="0.0894115 0.0175 0.09929950000000001" rpy="-1.5707963267948968 0 -1.5707963267948968"/>
    <parent link="chest"/>
    <child link="chest_depth_frame"/>
    <dynamics damping="0.1"/>
  </joint>
  <link name="chest_rgb_frame"/>
  <joint name="chest_rgb_frame_fixed_joint" type="fixed">
    <origin xyz="0.0894115 -0.0115 0.09929950000000001" rpy="-1.5707963267948968 0 -1.5707963267948968"/>
    <parent link="chest"/>
    <child link="chest_rgb_frame"/>
    <dynamics damping="0.1"/>
  </joint>
  <link name="neck_1">
    <inertial>
      <origin xyz="-0.0021259300000000003 0.00033753499999999997 0.031454700000000016" rpy="-1.5707963267948968 0 -1.5707963267948968"/>
      <mass value="0.359964395"/>
      <inertia ixx="0.00017575884401652112" ixy="-8.640042073685441e-06" ixz="-1.4551961415933398e-05" iyy="0.00026164457458078367" iyz="5.4539188590076795e-06" izz="0.00027752506463589357"/>
    </inertial>
    <visual>
      <origin xyz="0.00865 0 0.049000000000000016" rpy="-1.5707963267948968 0 -1.5707963267948968"/>
      <geometry>
        <mesh filename="package://icub_description/meshes/simmechanics/sim_head_neck_1_prt.stl" scale="0.001 0.001 0.001"/>
      </geometry>
      <material name="dgreen">
        <color rgba="0.1 0.8 0.1 1"/>
      </material>
    </visual>
    <collision>
      <origin xyz="0.00865 0 0.049000000000000016" rpy="-1.5707963267948968 0 -1.5707963267948968"/>
      <geometry>
        <mesh filename="package://icub_description/meshes/simmechanics/sim_head_neck_1_prt.stl" scale="0.001 0.001 0.001"/>
      </geometry>
    </collision>
  </link>
  <joint name="neck_fixed_joint" type="fixed">
    <origin xyz="-0.00378849 0 0.1652995" rpy="0 0 0"/>
    <parent link="chest"/>
    <child link="neck_1"/>
    <dynamics damping="0.1"/>
  </joint>
  <link name="neck_2">
    <inertial>
      <origin xyz="-0.0063756 3.63093e-05 0.006597499999999992" rpy="-1.5707963267948968 0 -1.5707963267948968"/>
      <mass value="0.118740971"/>
      <inertia ixx="3.836881878953795e-05" ixy="5.576292542558762e-08" ixz="9.453729207583973e-08" iyy="3.6566268258439336e-05" iyz="-8.883645056458357e-06" izz="4.484708647035341e-05"/>
    </inertial>
    <visual>
      <origin xyz="0 0 0" rpy="-1.5707963267948968 0 -1.5707963267948968"/>
      <geometry>
        <mesh filename="package://icub_description/meshes/simmechanics/sim_head_neck_2_prt.stl" scale="0.001 0.001 0.001"/>
      </geometry>
      <material name="gray">
        <color rgba="0.5 0.5 0.5 1"/>
      </material>
    </visual>
    <collision>
      <origin xyz="0 0 0" rpy="-1.5707963267948968 0 -1.5707963267948968"/>
      <geometry>
        <mesh filename="package://icub_description/meshes/simmechanics/sim_head_neck_2_prt.stl" scale="0.001 0.001 0.001"/>
      </geometry>
    </collision>
  </link>
  <joint name="neck_pitch" type="revolute">
    <origin xyz="0.00865 0 0.049000000000000016" rpy="0 0 0"/>
    <axis xyz="0.0 -1.0 0.0"/>
    <parent link="neck_1"/>
    <child link="neck_2"/>
    <limit effort="50000" lower="-0.5235987755982988" upper="0.3839724354387525" velocity="120.0"/>
    <dynamics damping="2.0" friction="0.0"/>
  </joint>
  <link name="neck_3">
    <inertial>
      <origin xyz="0.0012653999999999999 -8.218820291562122e-05 0.03610899999999334" rpy="-1.5707963267948968 0 -1.5707963267948968"/>
      <mass value="0.179822835"/>
      <inertia ixx="0.00011705938532913803" ixy="-5.125016528788269e-07" ixz="-3.5211636372789045e-07" iyy="3.9042209951899456e-05" iyz="-9.756793036595435e-06" izz="0.0001047000115866525"/>
    </inertial>
    <visual>
      <origin xyz="0 0 -0.009500499999999995" rpy="-1.5707963267948968 0 -1.5707963267948968"/>
      <geometry>
        <mesh filename="package://icub_description/meshes/simmechanics/sim_head_neck_3_prt.stl" scale="0.001 0.001 0.001"/>
      </geometry>
      <material name="green">
        <color rgba="0 1 0 1"/>
      </material>
    </visual>
    <collision>
      <origin xyz="0 0 -0.009500499999999995" rpy="-1.5707963267948968 0 -1.5707963267948968"/>
      <geometry>
        <mesh filename="package://icub_description/meshes/simmechanics/sim_head_neck_3_prt.stl" scale="0.001 0.001 0.001"/>
      </geometry>
    </collision>
  </link>
  <joint name="neck_roll" type="revolute">
    <origin xyz="0 0 0.009500499999999995" rpy="0 0 0"/>
    <axis xyz="1.0 0.0 0.0"/>
    <parent link="neck_2"/>
    <child link="neck_3"/>
    <limit effort="50000" lower="-0.3490658503988659" upper="0.3490658503988659" velocity="120.0"/>
    <dynamics damping="2.0" friction="0.0"/>
  </joint>
  <link name="head">
    <inertial>
      <origin xyz="-0.02065171000002118 0.0005260309913323862 0.027897000000042443" rpy="-1.5707963267948966 0 -1.5707963267948966"/>
      <mass value="1.831737118"/>
      <inertia ixx="0.007475075585024412" ixy="4.7924162038447815e-05" ixz="4.818377698242177e-05" iyy="0.007242282789724778" iyz="-0.00018904885945743614" izz="0.005471491343818336"/>
    </inertial>
    <visual>
      <origin xyz="0 0 -0.07865050000000001" rpy="-1.5707963267948966 0 -1.5707963267948966"/>
      <geometry>
        <mesh filename="package://icub_description/meshes/simmechanics/sim_head_head_prt.stl" scale="0.001 0.001 0.001"/>
      </geometry>
      <material name="black">
        <color rgba="0 0 0 1"/>
      </material>
    </visual>
    <collision>
      <origin xyz="0 0 -0.07865050000000001" rpy="-1.5707963267948966 0 -1.5707963267948966"/>
      <geometry>
        <mesh filename="package://icub_description/meshes/simmechanics/sim_head_head_prt.stl" scale="0.001 0.001 0.001"/>
      </geometry>
    </collision>
  </link>
  <joint name="neck_yaw" type="revolute">
    <origin xyz="0 0 0.06915000000000002" rpy="0 0 0"/>
    <axis xyz="-1.6255499221370677e-21 -1.0999983743979075e-15 1.0"/>
    <parent link="neck_3"/>
    <child link="head"/>
    <limit effort="50000" lower="-0.7853981633974483" upper="0.7853981633974483" velocity="120.0"/>
    <dynamics damping="2.0" friction="0.0"/>
  </joint>
  <link name="imu_frame"/>
  <joint name="imu_frame_fixed_joint" type="fixed">
    <origin xyz="0.0034999999997785457 0.0054999999863750895 0.1013340000004441" rpy="-3.141592653589793 0 -1.570796326794897"/>
    <parent link="head"/>
    <child link="imu_frame"/>
    <dynamics damping="0.1"/>
  </joint>
  <link name="r_shoulder_1">
    <inertial>
      <origin xyz="0.00026441971857374055 -0.05747129038042943 0.0004210903629773867" rpy="-0.06688725064450136 0.24445256247619251 -1.840815419889917"/>
      <mass value="1.380716446"/>
      <inertia ixx="0.01" ixy="-0.0005832833732058771" ixz="-0.0005435249287056798" iyy="0.01" iyz="-0.00015262994271578897" izz="0.01"/>
    </inertial>
    <visual>
      <origin xyz="0.03041123335618441 0.029140462447480264 0.01909577433393811" rpy="-0.06688725064450136 0.24445256247619251 -1.840815419889917"/>
      <geometry>
        <mesh filename="package://icub_description/meshes/simmechanics/sim_icub3_r_shoulder_1_prt.stl" scale="0.001 0.001 0.001"/>
      </geometry>
      <material name="red">
        <color rgba="1 0 0 1"/>
      </material>
    </visual>
    <collision>
      <origin xyz="0.03041123335618441 0.029140462447480264 0.01909577433393811" rpy="-0.06688725064450136 0.24445256247619251 -1.840815419889917"/>
      <geometry>
        <mesh filename="package://icub_description/meshes/simmechanics/sim_icub3_r_shoulder_1_prt.stl" scale="0.001 0.001 0.001"/>
      </geometry>
    </collision>
  </link>
  <joint name="r_shoulder_pitch" type="revolute">
    <origin xyz="-0.020835100000000002 -0.0397423 0.1052029" rpy="-0.25326164431680925 2.3014774394592079e-07 0.26179970938509745"/>
    <axis xyz="1.499044390054707e-07 0.9999999783534812 -1.2401537036188515e-07"/>
    <parent link="chest"/>
    <child link="r_shoulder_1"/>
    <limit effort="50000" lower="-1.53588974175501" upper="0.22689280275926285" velocity="120.0"/>
    <dynamics damping="2.0" friction="0.0"/>
  </joint>
  <link name="r_shoulder_2">
    <inertial>
      <origin xyz="0.0007118441514370015 -0.0002899713150672778 -0.027865575116629175" rpy="-0.07156446033079357 0.06196992338505823 -1.8462350402422587"/>
      <mass value="0.304658373"/>
      <inertia ixx="0.01" ixy="3.2537838826012804e-05" ixz="2.26161974125395e-05" iyy="0.01" iyz="-5.163216327773138e-05" izz="0.01"/>
    </inertial>
    <visual>
      <origin xyz="0.023893261066846312 0.14153171676199225 -0.0072523502076727205" rpy="-0.07156446033079357 0.06196992338505823 -1.8462350402422587"/>
      <geometry>
        <mesh filename="package://icub_description/meshes/simmechanics/sim_icub3_r_shoulder_2_prt.stl" scale="0.001 0.001 0.001"/>
      </geometry>
      <material name="blue">
        <color rgba="0 0 1 1"/>
      </material>
    </visual>
    <collision>
      <origin xyz="0.023893261066846312 0.14153171676199225 -0.0072523502076727205" rpy="-0.07156446033079357 0.06196992338505823 -1.8462350402422587"/>
      <geometry>
        <mesh filename="package://icub_description/meshes/simmechanics/sim_icub3_r_shoulder_2_prt.stl" scale="0.001 0.001 0.001"/>
      </geometry>
    </collision>
  </link>
  <joint name="r_shoulder_roll" type="revolute">
    <origin xyz="0.007489008185044645 -0.11150041046657978 0.0004027858966975245" rpy="0.17453306234069357 -0.053747792579130614 -6.132332688812785e-07"/>
    <axis xyz="-0.9999998262417886 4.2105014356162707e-08 2.4630481189336084e-08"/>
    <parent link="r_shoulder_1"/>
    <child link="r_shoulder_2"/>
    <limit effort="50000" lower="0.20943951023931956" upper="2.8448866807507573" velocity="120.0"/>
    <dynamics damping="2.0" friction="0.0"/>
  </joint>
  <link name="r_shoulder_3">
    <inertial>
      <origin xyz="-8.928496484206933e-05 -3.376971940446949e-05 -0.00759450025288725" rpy="-0.07156446033079357 0.06196992338505823 -1.8462350402422587"/>
      <mass value="0.24467077"/>
      <inertia ixx="0.01" ixy="5.557727008657165e-07" ixz="-2.7194783592437544e-06" iyy="0.01" iyz="-3.2422643569677497e-06" izz="0.01"/>
    </inertial>
    <visual>
      <origin xyz="0.030743207452236198 0.1415314977120317 0.04704763137021827" rpy="-0.07156446033079357 0.06196992338505823 -1.8462350402422587"/>
      <geometry>
        <mesh filename="package://icub_description/meshes/simmechanics/sim_icub3_r_shoulder_3_prt.stl" scale="0.001 0.001 0.001"/>
      </geometry>
      <material name="yellow">
        <color rgba="1 1 0 1"/>
      </material>
    </visual>
    <collision>
      <origin xyz="0.030743207452236198 0.1415314977120317 0.04704763137021827" rpy="-0.07156446033079357 0.06196992338505823 -1.8462350402422587"/>
      <geometry>
        <mesh filename="package://icub_description/meshes/simmechanics/sim_icub3_r_shoulder_3_prt.stl" scale="0.001 0.001 0.001"/>
      </geometry>
    </collision>
  </link>
  <joint name="r_arm_ft_sensor" type="fixed">
    <origin xyz="-0.006849946385389875 2.1904996055921444e-07 -0.05429998157789099" rpy="0 0 0"/>
    <parent link="r_shoulder_2"/>
    <child link="r_shoulder_3"/>
    <dynamics damping="0.1"/>
  </joint>
  <link name="r_upper_arm">
    <inertial>
      <origin xyz="-0.000798982178358984 -0.002084481892803941 -0.05063856093223067" rpy="-0.07156446033079357 0.06196992338505823 -1.8462350402422587"/>
      <mass value="1.960447492"/>
      <inertia ixx="0.004119602086814579" ixy="1.158223128604559e-05" ixz="0.00020349650199902935" iyy="0.003957940948860767" iyz="0.00020664971228357863" izz="0.0020250627669371347"/>
    </inertial>
    <visual>
      <origin xyz="0.030743125543818577 0.14153107587930094 0.06954757274337194" rpy="-0.07156446033079357 0.06196992338505823 -1.8462350402422587"/>
      <geometry>
        <mesh filename="package://icub_description/meshes/simmechanics/sim_icub3_r_upperarm_prt.stl" scale="0.001 0.001 0.001"/>
      </geometry>
      <material name="pink">
        <color rgba="1 0 1 1"/>
      </material>
    </visual>
    <collision>
      <origin xyz="0.030743125543818577 0.14153107587930094 0.06954757274337194" rpy="-0.07156446033079357 0.06196992338505823 -1.8462350402422587"/>
      <geometry>
        <mesh filename="package://icub_description/meshes/simmechanics/sim_icub3_r_upperarm_prt.stl" scale="0.001 0.001 0.001"/>
      </geometry>
    </collision>
  </link>
  <joint name="r_shoulder_yaw" type="revolute">
    <origin xyz="0 4.2183273077367467e-07 -0.022499941373153573" rpy="0 0 0"/>
    <axis xyz="-3.787621790513063e-08 2.805197706068352e-08 1.0000002566182309"/>
    <parent link="r_shoulder_3"/>
    <child link="r_upper_arm"/>
    <limit effort="50000" lower="-0.8726646259971648" upper="1.3962634015954636" velocity="120.0"/>
    <dynamics damping="2.0" friction="0.0"/>
  </joint>
  <link name="r_elbow_1">
    <inertial>
      <origin xyz="-0.010252765750166596 -0.0018331179988757829 -0.015053741795128806" rpy="-0.12008540036084188 0.22978866753011018 -1.8533144378692001"/>
      <mass value="0.217609341"/>
      <inertia ixx="0.01" ixy="2.353974571197465e-08" ixz="1.9513680659329553e-05" iyy="0.01" iyz="-6.334018264294134e-06" izz="0.01"/>
    </inertial>
    <visual>
      <origin xyz="0.020743191776066316 0.13914061722125232 0.21793478892057525" rpy="-0.12008540036084188 0.22978866753011018 -1.8533144378692001"/>
      <geometry>
        <mesh filename="package://icub_description/meshes/simmechanics/sim_icub3_r_elbow_1_prt.stl" scale="0.001 0.001 0.001"/>
      </geometry>
      <material name="cyan">
        <color rgba="0 1 1 1"/>
      </material>
    </visual>
    <collision>
      <origin xyz="0.020743191776066316 0.13914061722125232 0.21793478892057525" rpy="-0.12008540036084188 0.22978866753011018 -1.8533144378692001"/>
      <geometry>
        <mesh filename="package://icub_description/meshes/simmechanics/sim_icub3_r_elbow_1_prt.stl" scale="0.001 0.001 0.001"/>
      </geometry>
    </collision>
  </link>
  <joint name="r_elbow" type="revolute">
    <origin xyz="0.009999931922603816 0.0014996401320274133 -0.1237003374895465" rpy="0 0 0"/>
    <axis xyz="2.4949582809984105e-07 -1.0000002733514362 2.7942487004772865e-08"/>
    <parent link="r_upper_arm"/>
    <child link="r_elbow_1"/>
    <limit effort="50000" lower="-0.05235987755982989" upper="1.3089969389957472" velocity="120.0"/>
    <dynamics damping="2.0" friction="0.0"/>
  </joint>
  <link name="r_forearm">
    <inertial>
      <origin xyz="-0.005853260593877814 -3.2973527508139977e-06 -0.03040488207175987" rpy="-0.07156446033079357 0.06196992338505823 -1.8462350402422587"/>
      <mass value="0.854281652"/>
      <inertia ixx="0.001230149235906481" ixy="1.1257168785020514e-06" ixz="1.906424884901568e-05" iyy="0.0011905307659583599" iyz="0.00011224066697453452" izz="0.0006081089929552"/>
    </inertial>
    <visual>
      <origin xyz="0.035743063090027095 0.1420310856525903 0.2485479739054418" rpy="-0.07156446033079357 0.06196992338505823 -1.8462350402422587"/>
      <geometry>
        <mesh filename="package://icub_description/meshes/simmechanics/sim_icub3_r_forearm_prt.stl" scale="0.001 0.001 0.001"/>
      </geometry>
      <material name="green">
        <color rgba="0 1 0 1"/>
      </material>
    </visual>
    <collision>
      <origin xyz="0.035743063090027095 0.1420310856525903 0.2485479739054418" rpy="-0.07156446033079357 0.06196992338505823 -1.8462350402422587"/>
      <geometry>
        <mesh filename="package://icub_description/meshes/simmechanics/sim_icub3_r_forearm_prt.stl" scale="0.001 0.001 0.001"/>
      </geometry>
    </collision>
  </link>
  <joint name="r_wrist_prosup" type="revolute">
    <origin xyz="-0.014999869468812953 -0.001999649905318951 -0.05530006367251966" rpy="0 0 0"/>
    <axis xyz="-3.787621790513063e-08 2.805197706068352e-08 1.0000002566182309"/>
    <parent link="r_elbow_1"/>
    <child link="r_forearm"/>
    <limit effort="50000" lower="-1.53588974175501" upper="1.53588974175501" velocity="120.0"/>
    <dynamics damping="2.0" friction="0.0"/>
  </joint>
  <link name="r_wrist_1">
    <inertial>
      <origin xyz="-0.014389827079018234 0.0005092753390522065 -9.787315764231419e-05" rpy="-0.07156446033079357 0.06196992338505823 -1.8462350402422587"/>
      <mass value="0.032535096"/>
      <inertia ixx="0.01" ixy="8.699001601283703e-07" ixz="1.3955745499815409e-08" iyy="0.01" iyz="-1.0544717252156218e-07" izz="0.01"/>
    </inertial>
    <visual>
      <origin xyz="0.01944310973607847 0.14403852854340193 0.3560480536175482" rpy="-0.07156446033079357 0.06196992338505823 -1.8462350402422587"/>
      <geometry>
        <mesh filename="package://icub_description/meshes/simmechanics/sim_icub3_r_wrist_1_prt.stl" scale="0.001 0.001 0.001"/>
      </geometry>
      <material name="white">
        <color rgba="1 1 1 1"/>
      </material>
    </visual>
    <collision>
      <origin xyz="0.01944310973607847 0.14403852854340193 0.3560480536175482" rpy="-0.07156446033079357 0.06196992338505823 -1.8462350402422587"/>
      <geometry>
        <mesh filename="package://icub_description/meshes/simmechanics/sim_icub3_r_wrist_1_prt.stl" scale="0.001 0.001 0.001"/>
      </geometry>
    </collision>
  </link>
  <joint name="r_wrist_pitch" type="revolute">
    <origin xyz="0.016299953353948633 -0.002007442890811839 -0.10750007971210637" rpy="0 0 0"/>
    <axis xyz="0.9999998262417886 -4.2105014356162707e-08 -2.4630481189336084e-08"/>
    <parent link="r_forearm"/>
    <child link="r_wrist_1"/>
    <limit effort="50000" lower="-1.2217304763960306" upper="0.4363323129985824" velocity="120.0"/>
    <dynamics damping="2.0" friction="0.0"/>
  </joint>
  <link name="r_hand">
    <inertial>
      <origin xyz="0.004828314385249662 0.00615667237451184 -0.0671378028889843" rpy="-0.07156446033079357 0.06196992338505823 -1.8462350402422587"/>
      <mass value="0.2499009"/>
      <inertia ixx="0.01" ixy="4.527703539619043e-05" ixz="1.0511331468536763e-05" iyy="0.01" iyz="1.0826179610148775e-05" izz="0.01"/>
    </inertial>
    <visual>
      <origin xyz="0.03574323261035122 0.13703913849231014 0.3560481329144417" rpy="-0.07156446033079357 0.06196992338505823 -1.8462350402422587"/>
      <geometry>
        <mesh filename="package://icub_description/meshes/simmechanics/sim_icub3_r_hand_prt.stl" scale="0.001 0.001 0.001"/>
      </geometry>
      <material name="dblue">
        <color rgba="0 0 0.8 1"/>
      </material>
    </visual>
    <collision>
      <origin xyz="0.03574323261035122 0.13703913849231014 0.3560481329144417" rpy="-0.07156446033079357 0.06196992338505823 -1.8462350402422587"/>
      <geometry>
        <mesh filename="package://icub_description/meshes/simmechanics/sim_icub3_r_hand_prt.stl" scale="0.001 0.001 0.001"/>
      </geometry>
    </collision>
  </link>
  <joint name="r_wrist_yaw" type="revolute">
    <origin xyz="-0.016300122874272734 0.0069993900510918194 0" rpy="0 0 0"/>
    <axis xyz="-2.4949582809984105e-07 1.0000002733514362 -2.7942487004772865e-08"/>
    <parent link="r_wrist_1"/>
    <child link="r_hand"/>
    <limit effort="50000" lower="-0.2617993877991494" upper="0.6108652381980153" velocity="120.0"/>
    <dynamics damping="2.0" friction="0.0"/>
  </joint>
  <link name="l_shoulder_1">
    <inertial>
      <origin xyz="0.0002918276617865645 0.05723090680782866 0.0005026028232598713" rpy="-0.0668874800658252 -0.24445247958725436 -1.300777660386542"/>
      <mass value="1.376687449"/>
      <inertia ixx="0.01" ixy="0.0005787105562276275" ixz="0.0005349240605581856" iyy="0.01" iyz="-0.00015089444754685564" izz="0.01"/>
    </inertial>
    <visual>
      <origin xyz="0.030411223823216205 -0.02914047750374663 0.019095766539677896" rpy="-0.0668874800658252 -0.24445247958725436 -1.300777660386542"/>
      <geometry>
        <mesh filename="package://icub_description/meshes/simmechanics/sim_icub3_l_shoulder_1_prt.stl" scale="0.001 0.001 0.001"/>
      </geometry>
      <material name="dgreen">
        <color rgba="0.1 0.8 0.1 1"/>
      </material>
    </visual>
    <collision>
      <origin xyz="0.030411223823216205 -0.02914047750374663 0.019095766539677896" rpy="-0.0668874800658252 -0.24445247958725436 -1.300777660386542"/>
      <geometry>
        <mesh filename="package://icub_description/meshes/simmechanics/sim_icub3_l_shoulder_1_prt.stl" scale="0.001 0.001 0.001"/>
      </geometry>
    </collision>
  </link>
  <joint name="l_shoulder_pitch" type="revolute">
    <origin xyz="-0.020835100000000002 0.0397423 0.1052029" rpy="0.25326162380993705 -1.1977334179319483e-07 -0.26179930184968747"/>
    <axis xyz="3.323079797673039e-07 0.9999999783534342 1.4452224303407313e-07"/>
    <parent link="chest"/>
    <child link="l_shoulder_1"/>
    <limit effort="50000" lower="-1.53588974175501" upper="0.22689280275926285" velocity="120.0"/>
    <dynamics damping="2.0" friction="0.0"/>
  </joint>
  <link name="l_shoulder_2">
    <inertial>
      <origin xyz="0.0032933620254868984 0.0002563804707528261 -0.027865685757097337" rpy="-0.07156449498805939 -0.06196998841864677 -1.2953574498236577"/>
      <mass value="0.304658373"/>
      <inertia ixx="0.01" ixy="-3.313235231845923e-05" ixz="-2.3110931755362807e-05" iyy="0.01" iyz="-5.228966531392095e-05" izz="0.01"/>
    </inertial>
    <visual>
      <origin xyz="0.0263930978691934 -0.14153112610649202 -0.007252397644601654" rpy="-0.07156449498805939 -0.06196998841864677 -1.2953574498236577"/>
      <geometry>
        <mesh filename="package://icub_description/meshes/simmechanics/sim_icub3_l_shoulder_2_prt.stl" scale="0.001 0.001 0.001"/>
      </geometry>
      <material name="gray">
        <color rgba="0.5 0.5 0.5 1"/>
      </material>
    </visual>
    <collision>
      <origin xyz="0.0263930978691934 -0.14153112610649202 -0.007252397644601654" rpy="-0.07156449498805939 -0.06196998841864677 -1.2953574498236577"/>
      <geometry>
        <mesh filename="package://icub_description/meshes/simmechanics/sim_icub3_l_shoulder_2_prt.stl" scale="0.001 0.001 0.001"/>
      </geometry>
    </collision>
  </link>
  <joint name="l_shoulder_roll" type="revolute">
    <origin xyz="0.004992849331690818 0.111499838456099 0.0002686502277366859" rpy="-0.17453296140985 -0.05374759931933852 0"/>
    <axis xyz="0.9999998262417684 2.0348252649342313e-07 -4.0230228454118944e-08"/>
    <parent link="l_shoulder_1"/>
    <child link="l_shoulder_2"/>
    <limit effort="50000" lower="0.20943951023931956" upper="2.8448866807507573" velocity="120.0"/>
    <dynamics damping="2.0" friction="0.0"/>
  </joint>
  <link name="l_shoulder_3">
    <inertial>
      <origin xyz="-4.41626402200232e-06 9.587749727052453e-05 -0.007326213473011087" rpy="-0.07156449498805939 -0.06196998841864677 -1.2953574498236577"/>
      <mass value="0.242239185"/>
      <inertia ixx="0.01" ixy="-3.5592877751030733e-07" ixz="2.772905125990325e-06" iyy="0.01" iyz="-3.332197996904868e-06" izz="0.01"/>
    </inertial>
    <visual>
      <origin xyz="0.030743231026171724 -0.14153148936381538 0.04704764107946005" rpy="-0.07156449498805939 -0.06196998841864677 -1.2953574498236577"/>
      <geometry>
        <mesh filename="package://icub_description/meshes/simmechanics/sim_icub3_l_shoulder_3_prt.stl" scale="0.001 0.001 0.001"/>
      </geometry>
      <material name="green">
        <color rgba="0 1 0 1"/>
      </material>
    </visual>
    <collision>
      <origin xyz="0.030743231026171724 -0.14153148936381538 0.04704764107946005" rpy="-0.07156449498805939 -0.06196998841864677 -1.2953574498236577"/>
      <geometry>
        <mesh filename="package://icub_description/meshes/simmechanics/sim_icub3_l_shoulder_3_prt.stl" scale="0.001 0.001 0.001"/>
      </geometry>
    </collision>
  </link>
  <joint name="l_arm_ft_sensor" type="fixed">
    <origin xyz="-0.004350133156978329 3.632573233880443e-07 -0.05430003872406172" rpy="0 0 0"/>
    <parent link="l_shoulder_2"/>
    <child link="l_shoulder_3"/>
    <dynamics damping="0.1"/>
  </joint>
  <link name="l_upper_arm">
    <inertial>
      <origin xyz="-0.0007989833046956885 0.002084478118404877 -0.050638561069828086" rpy="-0.062128608300921935 0.07142689081245782 0.27099931149673573"/>
      <mass value="2.07285"/>
      <inertia ixx="0.00418487" ixy="1.22463e-05" ixz="0.000218498" iyy="0.0043558" iyz="0.000215164" izz="0.00214117"/>
    </inertial>
    <visual>
      <origin xyz="0.03074314946867922 -0.1415310659113312 0.06954758245258467" rpy="-0.07156449498805939 -0.06196998841864677 -1.2953574498236577"/>
      <geometry>
        <mesh filename="package://icub_description/meshes/simmechanics/sim_icub3_l_upperarm_prt.stl" scale="0.001 0.001 0.001"/>
      </geometry>
      <material name="black">
        <color rgba="0 0 0 1"/>
      </material>
    </visual>
    <collision>
      <origin xyz="0.03074314946867922 -0.1415310659113312 0.06954758245258467" rpy="-0.07156449498805939 -0.06196998841864677 -1.2953574498236577"/>
      <geometry>
        <mesh filename="package://icub_description/meshes/simmechanics/sim_icub3_l_upperarm_prt.stl" scale="0.001 0.001 0.001"/>
      </geometry>
    </collision>
  </link>
  <joint name="l_shoulder_yaw" type="revolute">
    <origin xyz="0 -4.2345248449371375e-07 -0.02249994137312443" rpy="0 0 0"/>
    <axis xyz="2.227647404040578e-08 -4.393786245948661e-08 -1.0000002566182309"/>
    <parent link="l_shoulder_3"/>
    <child link="l_upper_arm"/>
    <limit effort="50000" lower="-0.8726646259971648" upper="1.3962634015954636" velocity="120.0"/>
    <dynamics damping="2.0" friction="0.0"/>
  </joint>
  <link name="l_elbow_1">
    <inertial>
      <origin xyz="-0.010241946078109292 0.0018224069895867168 -0.01508962025855548" rpy="-0.07156449498805939 -0.06196998841864677 -1.2953574498236577"/>
      <mass value="0.217768231"/>
      <inertia ixx="0.01" ixy="7.104417335699923e-07" ixz="-9.337153146297134e-06" iyy="0.01" iyz="-9.773438661251487e-06" izz="0.01"/>
    </inertial>
    <visual>
      <origin xyz="0.0207432192337597 -0.14003141848790235 0.19324791999016847" rpy="-0.07156449498805939 -0.06196998841864677 -1.2953574498236577"/>
      <geometry>
        <mesh filename="package://icub_description/meshes/simmechanics/sim_icub3_l_elbow_1_prt.stl" scale="0.001 0.001 0.001"/>
      </geometry>
      <material name="red">
        <color rgba="1 0 0 1"/>
      </material>
    </visual>
    <collision>
      <origin xyz="0.0207432192337597 -0.14003141848790235 0.19324791999016847" rpy="-0.07156449498805939 -0.06196998841864677 -1.2953574498236577"/>
      <geometry>
        <mesh filename="package://icub_description/meshes/simmechanics/sim_icub3_l_elbow_1_prt.stl" scale="0.001 0.001 0.001"/>
      </geometry>
    </collision>
  </link>
  <joint name="l_elbow" type="revolute">
    <origin xyz="0.009999930234919404 -0.001499647423428896 -0.12370033753758375" rpy="0 0 0"/>
    <axis xyz="-8.811824154381087e-08 -1.0000002733514628 4.4047361189014644e-08"/>
    <parent link="l_upper_arm"/>
    <child link="l_elbow_1"/>
    <limit effort="50000" lower="-0.05235987755982989" upper="1.3089969389957472" velocity="120.0"/>
    <dynamics damping="2.0" friction="0.0"/>
  </joint>
  <link name="l_forearm">
    <inertial>
      <origin xyz="-0.006269874102298061 -4.68551245806359e-05 -0.030648347755607153" rpy="-0.07156449498805939 -0.06196998841864677 -1.2953574498236577"/>
      <mass value="0.858696525"/>
      <inertia ixx="0.001246738111071889" ixy="-6.996239702553336e-07" ixz="-2.5468935337559064e-05" iyy="0.0012148276986463716" iyz="0.00010266470596331766" izz="0.0006118920888855694"/>
    </inertial>
    <visual>
      <origin xyz="0.03574308988793752 -0.14203106199153712 0.24854798357264754" rpy="-0.07156449498805939 -0.06196998841864677 -1.2953574498236577"/>
      <geometry>
        <mesh filename="package://icub_description/meshes/simmechanics/sim_icub3_l_forearm_prt.stl" scale="0.001 0.001 0.001"/>
      </geometry>
      <material name="blue">
        <color rgba="0 0 1 1"/>
      </material>
    </visual>
    <collision>
      <origin xyz="0.03574308988793752 -0.14203106199153712 0.24854798357264754" rpy="-0.07156449498805939 -0.06196998841864677 -1.2953574498236577"/>
      <geometry>
        <mesh filename="package://icub_description/meshes/simmechanics/sim_icub3_l_forearm_prt.stl" scale="0.001 0.001 0.001"/>
      </geometry>
    </collision>
  </link>
  <joint name="l_wrist_prosup" type="revolute">
    <origin xyz="-0.014999870654177704 0.0019996435036348514 -0.055300063582479825" rpy="0 0 0"/>
    <axis xyz="2.227647404040578e-08 -4.393786245948661e-08 -1.0000002566182309"/>
    <parent link="l_elbow_1"/>
    <child link="l_forearm"/>
    <limit effort="50000" lower="-1.53588974175501" upper="1.53588974175501" velocity="120.0"/>
    <dynamics damping="2.0" friction="0.0"/>
  </joint>
  <link name="l_wrist_1">
    <inertial>
      <origin xyz="-0.014390150453737368 -0.0005083960996520587 -9.893035257668714e-05" rpy="-0.07156449498805939 -0.06196998841864677 -1.2953574498236577"/>
      <mass value="0.032535096"/>
      <inertia ixx="0.01" ixy="-8.699001601283703e-07" ixz="-1.395584007720818e-08" iyy="0.01" iyz="-1.0544717252156218e-07" izz="0.01"/>
    </inertial>
    <visual>
      <origin xyz="0.019143073953651363 -0.14403795720960977 0.3560476247151885" rpy="-0.07156449498805939 -0.06196998841864677 -1.2953574498236577"/>
      <geometry>
        <mesh filename="package://icub_description/meshes/simmechanics/sim_icub3_l_wrist_1_prt.stl" scale="0.001 0.001 0.001"/>
      </geometry>
      <material name="yellow">
        <color rgba="1 1 0 1"/>
      </material>
    </visual>
    <collision>
      <origin xyz="0.019143073953651363 -0.14403795720960977 0.3560476247151885" rpy="-0.07156449498805939 -0.06196998841864677 -1.2953574498236577"/>
      <geometry>
        <mesh filename="package://icub_description/meshes/simmechanics/sim_icub3_l_wrist_1_prt.stl" scale="0.001 0.001 0.001"/>
      </geometry>
    </collision>
  </link>
  <joint name="l_wrist_pitch" type="revolute">
    <origin xyz="0.016600015934286182 0.002006895218072541 -0.10749964114254112" rpy="0 0 0"/>
    <axis xyz="-0.9999998262417684 -2.0348252649342313e-07 4.0230228454118944e-08"/>
    <parent link="l_forearm"/>
    <child link="l_wrist_1"/>
    <limit effort="50000" lower="-1.2217304763960306" upper="0.4363323129985824" velocity="120.0"/>
    <dynamics damping="2.0" friction="0.0"/>
  </joint>
  <link name="l_hand">
    <inertial>
      <origin xyz="0.004786523181334722 -0.0061337378723908265 -0.0672770617484692" rpy="-0.07156449498805939 -0.06196998841864677 -1.2953574498236577"/>
      <mass value="0.249250207"/>
      <inertia ixx="0.01" ixy="-4.512230668414326e-05" ixz="-9.754806880214843e-06" iyy="0.01" iyz="1.1339356520717838e-05" izz="0.01"/>
    </inertial>
    <visual>
      <origin xyz="0.03544319569838081 -0.13703856452803848 0.35604770325391955" rpy="-0.07156449498805939 -0.06196998841864677 -1.2953574498236577"/>
      <geometry>
        <mesh filename="package://icub_description/meshes/simmechanics/sim_icub3_l_hand_prt.stl" scale="0.001 0.001 0.001"/>
      </geometry>
      <material name="pink">
        <color rgba="1 0 1 1"/>
      </material>
    </visual>
    <collision>
      <origin xyz="0.03544319569838081 -0.13703856452803848 0.35604770325391955" rpy="-0.07156449498805939 -0.06196998841864677 -1.2953574498236577"/>
      <geometry>
        <mesh filename="package://icub_description/meshes/simmechanics/sim_icub3_l_hand_prt.stl" scale="0.001 0.001 0.001"/>
      </geometry>
    </collision>
  </link>
  <joint name="l_wrist_yaw" type="revolute">
    <origin xyz="-0.016300121744729387 -0.0069993926815711816 0" rpy="0 0 0"/>
    <axis xyz="8.811824154381087e-08 1.0000002733514628 -4.4047361189014644e-08"/>
    <parent link="l_wrist_1"/>
    <child link="l_hand"/>
    <limit effort="50000" lower="-0.2617993877991494" upper="0.6108652381980153" velocity="120.0"/>
    <dynamics damping="2.0" friction="0.0"/>
  </joint>
  <link name="base_link"/>
  <joint name="base_link_fixed_joint" type="fixed">
  <origin xyz="0 0 0" rpy="0 -0 0"/>
  <axis xyz="0 0 0"/>
  <parent link="root_link"/>
  <child link="base_link"/>
</joint>
  <gazebo reference="r_arm_ft_sensor">
<preserveFixedJoint>true</preserveFixedJoint>
<!-- For compatibility with SDFormat < 4.4 -->
<disableFixedJointLumping>true</disableFixedJointLumping>
</gazebo>
  <gazebo reference="l_arm_ft_sensor">
<preserveFixedJoint>true</preserveFixedJoint>
<!-- For compatibility with SDFormat < 4.4 -->
<disableFixedJointLumping>true</disableFixedJointLumping>
</gazebo>
  <gazebo>
<plugin name="controlboard_torso" filename="libgazebo_yarp_controlboard.so">
  <yarpConfigurationFile>model://iCub/conf_icub3/gazebo_icub_torso.ini</yarpConfigurationFile>
</plugin>
</gazebo>
  <gazebo reference="torso_pitch">
    <implicitSpringDamper>1</implicitSpringDamper>
</gazebo>
  <gazebo reference="torso_roll">
    <implicitSpringDamper>1</implicitSpringDamper>
</gazebo>
  <gazebo reference="torso_yaw">
    <implicitSpringDamper>1</implicitSpringDamper>
</gazebo>
  <gazebo reference="r_shoulder_pitch">
    <implicitSpringDamper>1</implicitSpringDamper>
</gazebo>
  <gazebo reference="r_shoulder_roll">
    <implicitSpringDamper>1</implicitSpringDamper>
</gazebo>
  <gazebo reference="r_shoulder_yaw">
    <implicitSpringDamper>1</implicitSpringDamper>
</gazebo>
  <gazebo reference="l_shoulder_pitch">
    <implicitSpringDamper>1</implicitSpringDamper>
</gazebo>
  <gazebo reference="l_shoulder_roll">
    <implicitSpringDamper>1</implicitSpringDamper>
</gazebo>
  <gazebo reference="l_shoulder_yaw">
    <implicitSpringDamper>1</implicitSpringDamper>
</gazebo>
  <gazebo reference="l_leg_ft_sensor">
<preserveFixedJoint>true</preserveFixedJoint>
<!-- For compatibility with SDFormat < 4.4 -->
<disableFixedJointLumping>true</disableFixedJointLumping>
</gazebo>
  <gazebo reference="l_foot_front_ft_sensor">
<preserveFixedJoint>true</preserveFixedJoint>
<!-- For compatibility with SDFormat < 4.4 -->
<disableFixedJointLumping>true</disableFixedJointLumping>
</gazebo>
  <gazebo reference="l_foot_rear_ft_sensor">
<preserveFixedJoint>true</preserveFixedJoint>
<!-- For compatibility with SDFormat < 4.4 -->
<disableFixedJointLumping>true</disableFixedJointLumping>
</gazebo>
  <gazebo reference="l_foot_front">
  <collision> <surface> <bounce>
    <restitution_coefficient>0</restitution_coefficient>
    <threshold>100000</threshold>
  </bounce> </surface> </collision>
  <maxContacts>4</maxContacts>
  <kp>18000000</kp>
  <kd>100</kd>
  <maxVel>100</maxVel>
  <minDepth>0.0001</minDepth>
  <mu1>1</mu1>
  <mu2>1</mu2>
  <fdir1>0 0 0</fdir1>
</gazebo>
  <gazebo reference="l_foot_rear">
  <collision> <surface> <bounce>
    <restitution_coefficient>0</restitution_coefficient>
    <threshold>100000</threshold>
  </bounce> </surface> </collision>
  <maxContacts>4</maxContacts>
  <kp>18000000</kp>
  <kd>100</kd>
  <maxVel>100</maxVel>
  <minDepth>0.0001</minDepth>
  <mu1>1</mu1>
  <mu2>1</mu2>
  <fdir1>0 0 0</fdir1>
</gazebo>
  <gazebo>
<plugin name="controlboard_left_leg" filename="libgazebo_yarp_controlboard.so">
<yarpConfigurationFile>model://iCub/conf_icub3/gazebo_icub_left_leg.ini</yarpConfigurationFile>
</plugin>
</gazebo>
  <gazebo reference="l_hip_pitch">
    <implicitSpringDamper>1</implicitSpringDamper>
</gazebo>
  <gazebo reference="l_hip_roll">
    <implicitSpringDamper>1</implicitSpringDamper>
</gazebo>
  <gazebo reference="l_hip_yaw">
    <implicitSpringDamper>1</implicitSpringDamper>
</gazebo>
  <gazebo reference="l_knee">
    <implicitSpringDamper>1</implicitSpringDamper>
</gazebo>
  <gazebo reference="l_ankle_pitch">
    <implicitSpringDamper>1</implicitSpringDamper>
</gazebo>
  <gazebo reference="l_ankle_roll">
    <implicitSpringDamper>1</implicitSpringDamper>
</gazebo>
  <gazebo reference="r_leg_ft_sensor">
<preserveFixedJoint>true</preserveFixedJoint>
<!-- For compatibility with SDFormat < 4.4 -->
<disableFixedJointLumping>true</disableFixedJointLumping>
</gazebo>
  <gazebo reference="r_foot_front_ft_sensor">
<preserveFixedJoint>true</preserveFixedJoint>
<!-- For compatibility with SDFormat < 4.4 -->
<disableFixedJointLumping>true</disableFixedJointLumping>
</gazebo>
  <gazebo reference="r_foot_rear_ft_sensor">
<preserveFixedJoint>true</preserveFixedJoint>
<!-- For compatibility with SDFormat < 4.4 -->
<disableFixedJointLumping>true</disableFixedJointLumping>
</gazebo>
  <gazebo reference="r_foot_front">
  <collision> <surface> <bounce>
    <restitution_coefficient>0</restitution_coefficient>
    <threshold>100000</threshold>
  </bounce> </surface> </collision>
  <maxContacts>4</maxContacts>
  <kp>18000000</kp>
  <kd>100</kd>
  <maxVel>100</maxVel>
  <minDepth>0.0001</minDepth>
  <mu1>1</mu1>
  <mu2>1</mu2>
  <fdir1>0 0 0</fdir1>
</gazebo>
  <gazebo reference="r_foot_rear">
  <collision> <surface> <bounce>
    <restitution_coefficient>0</restitution_coefficient>
    <threshold>100000</threshold>
  </bounce> </surface> </collision>
  <maxContacts>4</maxContacts>
  <kp>18000000</kp>
  <kd>100</kd>
  <maxVel>100</maxVel>
  <minDepth>0.0001</minDepth>
  <mu1>1</mu1>
  <mu2>1</mu2>
  <fdir1>0 0 0</fdir1>
</gazebo>
  <gazebo>
<plugin name="controlboard_right_leg" filename="libgazebo_yarp_controlboard.so">
<yarpConfigurationFile>model://iCub/conf_icub3/gazebo_icub_right_leg.ini</yarpConfigurationFile>
</plugin>
</gazebo>
  <gazebo reference="r_hip_pitch">
    <implicitSpringDamper>1</implicitSpringDamper>
</gazebo>
  <gazebo reference="r_hip_roll">
    <implicitSpringDamper>1</implicitSpringDamper>
</gazebo>
  <gazebo reference="r_hip_yaw">
    <implicitSpringDamper>1</implicitSpringDamper>
</gazebo>
  <gazebo reference="r_knee">
    <implicitSpringDamper>1</implicitSpringDamper>
</gazebo>
  <gazebo reference="r_ankle_pitch">
    <implicitSpringDamper>1</implicitSpringDamper>
</gazebo>
  <gazebo reference="r_ankle_roll">
    <implicitSpringDamper>1</implicitSpringDamper>
</gazebo>
  <gazebo>
<plugin name="controlboard_head_without_eyes" filename="libgazebo_yarp_controlboard.so">
<yarpConfigurationFile>model://iCub/conf_icub3/gazebo_icub_head_without_eyes_V2_7.ini</yarpConfigurationFile>
</plugin>
</gazebo>
  <gazebo reference="neck_pitch">
    <implicitSpringDamper>1</implicitSpringDamper>
</gazebo>
  <gazebo reference="neck_roll">
    <implicitSpringDamper>1</implicitSpringDamper>
</gazebo>
  <gazebo reference="neck_yaw">
    <implicitSpringDamper>1</implicitSpringDamper>
</gazebo>
  <gazebo>
<plugin name="controlboard_left_arm_no_hand" filename="libgazebo_yarp_controlboard.so">
<yarpConfigurationFile>model://iCub/conf_icub3/gazebo_icub_left_arm_no_hand_for_no_hand_model.ini</yarpConfigurationFile>
<initialConfiguration>-0.52 0.52 0 0.785 0 0 0.0</initialConfiguration>
</plugin>
</gazebo>
  <gazebo reference="l_shoulder_pitch">
  <implicitSpringDamper>1</implicitSpringDamper>
</gazebo>
  <gazebo reference="l_shoulder_roll">
  <implicitSpringDamper>1</implicitSpringDamper>
</gazebo>
  <gazebo reference="l_shoulder_yaw">
  <implicitSpringDamper>1</implicitSpringDamper>
</gazebo>
  <gazebo reference="l_elbow">
  <implicitSpringDamper>1</implicitSpringDamper>
</gazebo>
  <gazebo reference="l_wrist_prosup">
  <implicitSpringDamper>1</implicitSpringDamper>
</gazebo>
  <gazebo reference="l_wrist_pitch">
  <implicitSpringDamper>1</implicitSpringDamper>
</gazebo>
  <gazebo reference="l_wrist_yaw">
  <implicitSpringDamper>1</implicitSpringDamper>
</gazebo>
  <gazebo>
<plugin name="controlboard_right_arm_no_hand" filename="libgazebo_yarp_controlboard.so">
<yarpConfigurationFile>model://iCub/conf_icub3/gazebo_icub_right_arm_no_hand_for_no_hand_model.ini</yarpConfigurationFile>
<initialConfiguration>-0.52 0.52 0 0.785 0 0 0.0</initialConfiguration>
</plugin>
</gazebo>
  <gazebo reference="r_shoulder_pitch">
  <implicitSpringDamper>1</implicitSpringDamper>
</gazebo>
  <gazebo reference="r_shoulder_roll">
  <implicitSpringDamper>1</implicitSpringDamper>
</gazebo>
  <gazebo reference="r_shoulder_yaw">
  <implicitSpringDamper>1</implicitSpringDamper>
</gazebo>
  <gazebo reference="r_elbow">
  <implicitSpringDamper>1</implicitSpringDamper>
</gazebo>
  <gazebo reference="r_wrist_prosup">
  <implicitSpringDamper>1</implicitSpringDamper>
</gazebo>
  <gazebo reference="r_wrist_pitch">
  <implicitSpringDamper>1</implicitSpringDamper>
</gazebo>
  <gazebo reference="r_wrist_yaw">
  <implicitSpringDamper>1</implicitSpringDamper>
</gazebo>
  <gazebo reference="l_arm_ft_sensor">
    <sensor name="l_arm_ft_sensor" type="force_torque">
      <always_on>1</always_on>
      <update_rate>100</update_rate>
      <force_torque>
        <frame>sensor</frame>
        <measure_direction>child_to_parent</measure_direction>
      </force_torque>
      <pose>-0.004350133156978329 3.632573233880443e-07 -0.05430003872406172 3.141592646862139 -3.104683320142575e-08 -1.5707962571980942</pose>
      <plugin name="left_arm_ft_plugin" filename="libgazebo_yarp_forcetorque.so">
  <yarpConfigurationFile>model://iCub/conf_icub3/FT/gazebo_icub_left_arm_ft.ini</yarpConfigurationFile>
</plugin>
    </sensor>
  </gazebo>
  <sensor name="l_arm_ft_sensor" type="force_torque">
    <parent joint="l_arm_ft_sensor"/>
    <force_torque>
      <frame>sensor</frame>
      <measure_direction>child_to_parent</measure_direction>
    </force_torque>
    <origin rpy="3.141592646862139 -3.104683320142575e-08 -1.5707962571980942" xyz="-0.004350133156978329 3.632573233880443e-07 -0.05430003872406172"/>
  </sensor>
  <gazebo reference="r_arm_ft_sensor">
    <sensor name="r_arm_ft_sensor" type="force_torque">
      <always_on>1</always_on>
      <update_rate>100</update_rate>
      <force_torque>
        <frame>sensor</frame>
        <measure_direction>child_to_parent</measure_direction>
      </force_torque>
      <pose>-0.006849946385389875 2.1904996055921444e-07 -0.05429998157789099 3.141592644717707 4.094299285979593e-08 1.5707964185756365</pose>
      <plugin name="right_arm_ft_plugin" filename="libgazebo_yarp_forcetorque.so">
  <yarpConfigurationFile>model://iCub/conf_icub3/FT/gazebo_icub_right_arm_ft.ini</yarpConfigurationFile>
</plugin>
    </sensor>
  </gazebo>
  <sensor name="r_arm_ft_sensor" type="force_torque">
    <parent joint="r_arm_ft_sensor"/>
    <force_torque>
      <frame>sensor</frame>
      <measure_direction>child_to_parent</measure_direction>
    </force_torque>
    <origin rpy="3.141592644717707 4.094299285979593e-08 1.5707964185756365" xyz="-0.006849946385389875 2.1904996055921444e-07 -0.05429998157789099"/>
  </sensor>
  <gazebo reference="l_foot_front_ft_sensor">
    <sensor name="l_foot_front_ft_sensor" type="force_torque">
      <always_on>1</always_on>
      <update_rate>100</update_rate>
      <force_torque>
        <frame>sensor</frame>
        <measure_direction>parent_to_child</measure_direction>
      </force_torque>
      <pose>0.0 0.0 0.022299999999999986 0.0 -0.0 -2.094395210586932</pose>
      <plugin name="left_foot_front_ft_plugin" filename="libgazebo_yarp_forcetorque.so">
  <yarpConfigurationFile>model://iCub/conf_icub3/FT/gazebo_icub_left_foot_front_ft.ini</yarpConfigurationFile>
</plugin>
    </sensor>
  </gazebo>
  <sensor name="l_foot_front_ft_sensor" type="force_torque">
    <parent joint="l_foot_front_ft_sensor"/>
    <force_torque>
      <frame>sensor</frame>
      <measure_direction>parent_to_child</measure_direction>
    </force_torque>
    <origin rpy="0.0 -0.0 -2.094395210586932" xyz="0.0 0.0 0.022299999999999986"/>
  </sensor>
  <gazebo reference="l_foot_rear_ft_sensor">
    <sensor name="l_foot_rear_ft_sensor" type="force_torque">
      <always_on>1</always_on>
      <update_rate>100</update_rate>
      <force_torque>
        <frame>sensor</frame>
        <measure_direction>parent_to_child</measure_direction>
      </force_torque>
      <pose>0.0 0.0 0.022299999999999986 0.0 -0.0 -2.094395210586932</pose>
      <plugin name="left_foot_rear_ft_plugin" filename="libgazebo_yarp_forcetorque.so">
  <yarpConfigurationFile>model://iCub/conf_icub3/FT/gazebo_icub_left_foot_rear_ft.ini</yarpConfigurationFile>
</plugin>
    </sensor>
  </gazebo>
  <sensor name="l_foot_rear_ft_sensor" type="force_torque">
    <parent joint="l_foot_rear_ft_sensor"/>
    <force_torque>
      <frame>sensor</frame>
      <measure_direction>parent_to_child</measure_direction>
    </force_torque>
    <origin rpy="0.0 -0.0 -2.094395210586932" xyz="0.0 0.0 0.022299999999999986"/>
  </sensor>
  <gazebo reference="r_foot_front_ft_sensor">
    <sensor name="r_foot_front_ft_sensor" type="force_torque">
      <always_on>1</always_on>
      <update_rate>100</update_rate>
      <force_torque>
        <frame>sensor</frame>
        <measure_direction>parent_to_child</measure_direction>
      </force_torque>
      <pose>0.0 0.0 0.022299999999999986 0.0 -0.0 -2.094395210586932</pose>
      <plugin name="right_foot_front_ft_plugin" filename="libgazebo_yarp_forcetorque.so">
  <yarpConfigurationFile>model://iCub/conf_icub3/FT/gazebo_icub_right_foot_front_ft.ini</yarpConfigurationFile>
</plugin>
    </sensor>
  </gazebo>
  <sensor name="r_foot_front_ft_sensor" type="force_torque">
    <parent joint="r_foot_front_ft_sensor"/>
    <force_torque>
      <frame>sensor</frame>
      <measure_direction>parent_to_child</measure_direction>
    </force_torque>
    <origin rpy="0.0 -0.0 -2.094395210586932" xyz="0.0 0.0 0.022299999999999986"/>
  </sensor>
  <gazebo reference="r_foot_rear_ft_sensor">
    <sensor name="r_foot_rear_ft_sensor" type="force_torque">
      <always_on>1</always_on>
      <update_rate>100</update_rate>
      <force_torque>
        <frame>sensor</frame>
        <measure_direction>parent_to_child</measure_direction>
      </force_torque>
      <pose>0.0 0.0 0.022299999999999986 0.0 -0.0 -2.094395210586932</pose>
      <plugin name="right_foot_rear_ft_plugin" filename="libgazebo_yarp_forcetorque.so">
  <yarpConfigurationFile>model://iCub/conf_icub3/FT/gazebo_icub_right_foot_rear_ft.ini</yarpConfigurationFile>
</plugin>
    </sensor>
  </gazebo>
  <sensor name="r_foot_rear_ft_sensor" type="force_torque">
    <parent joint="r_foot_rear_ft_sensor"/>
    <force_torque>
      <frame>sensor</frame>
      <measure_direction>parent_to_child</measure_direction>
    </force_torque>
    <origin rpy="0.0 -0.0 -2.094395210586932" xyz="0.0 0.0 0.022299999999999986"/>
  </sensor>
  <gazebo reference="head">
    <sensor name="head_imu_acc_1x1" type="imu">
      <always_on>1</always_on>
      <update_rate>100</update_rate>
      <pose>0.0034999999997785457 0.0054999999863750895 0.1013340000004441 -3.141592653589793 -4.20000162559822e-15 -1.570796326794897</pose>
      <plugin name="iCub_yarp_gazebo_plugin_IMU" filename="libgazebo_yarp_imu.so">
   <yarpConfigurationFile>model://iCub/conf_icub3/gazebo_icub_inertial.ini</yarpConfigurationFile>
</plugin>
    </sensor>
  </gazebo>
  <sensor name="head_imu_acc_1x1" type="accelerometer">
    <parent link="head"/>
    <origin rpy="-3.141592653589793 -4.20000162559822e-15 -1.570796326794897" xyz="0.0034999999997785457 0.0054999999863750895 0.1013340000004441"/>
  </sensor>
  <gazebo reference="chest">
    <sensor name="realsense_chest_depth" type="depth">
      <always_on>1</always_on>
      <update_rate>30</update_rate>
      <pose>0.0894115 0.0175 0.09929950000000001 -1.5707963267948968 -0.0 -1.5707963267948968</pose>
      <camera name="intel_realsense_depth_camera">
  <pose>0 0 0 -1.57079 -1.57079 3.14159</pose>
  <horizontal_fov>1.57079</horizontal_fov>
  <distortion>
    <k1>0</k1>
    <k2>0</k2>
    <k3>0</k3>
    <p1>0</p1>
    <p2>0</p2>
    <center>319.5 239.5</center>
  </distortion>
  <image>
    <width>640</width>
    <height>480</height>
    <format>R8G8B8</format>
  </image>
  <clip>
    <near>0.175</near>
    <far>3000</far>
  </clip>
</camera>
      <visualize>false</visualize>
      <plugin name="iCub_yarp_gazebo_plugin_depthCamera" filename="libgazebo_yarp_depthCamera.so">
    <yarpConfigurationFile>model://iCub/conf_icub3/gazebo_icub_depth_camera.ini</yarpConfigurationFile>
</plugin>
    </sensor>
  </gazebo>
  <sensor name="realsense_chest_depth" type="depth">
    <parent link="chest"/>
    <origin rpy="-1.5707963267948968 -0.0 -1.5707963267948968" xyz="0.0894115 0.0175 0.09929950000000001"/>
  </sensor>
  <gazebo reference="chest">
    <sensor name="realsense_chest_rgb" type="camera">
      <always_on>1</always_on>
      <update_rate>30</update_rate>
      <pose>0.0894115 -0.0115 0.09929950000000001 -1.5707963267948968 -0.0 -1.5707963267948968</pose>
      <camera name="intel_realsense_rgb_camera">
  <pose>0 0 0 -1.57079 -1.57079 3.14159</pose>
  <horizontal_fov>1.2217</horizontal_fov>
  <distortion>
    <k1>0</k1>
    <k2>0</k2>
    <k3>0</k3>
    <p1>0</p1>
    <p2>0</p2>
    <center>319.5 239.5</center>
  </distortion>
  <image>
    <width>640</width>
    <height>480</height>
    <format>R8G8B8</format>
  </image>
  <clip>
    <near>0.02</near>
    <far>3000</far>
  </clip>
</camera>
      <visualize>false</visualize>
      <plugin name="iCub_yarp_gazebo_plugin_camera" filename="libgazebo_yarp_camera.so">
    <yarpConfigurationFile>model://iCub/conf_icub3/gazebo_icub_rgb_camera.ini</yarpConfigurationFile>
</plugin>
    </sensor>
  </gazebo>
  <sensor name="realsense_chest_rgb" type="camera">
    <parent link="chest"/>
    <origin rpy="-1.5707963267948968 -0.0 -1.5707963267948968" xyz="0.0894115 -0.0115 0.09929950000000001"/>
  </sensor>
  <gazebo reference="chest">
    <sensor name="chest_imu_acc_1x1" type="imu">
      <always_on>1</always_on>
      <update_rate>100</update_rate>
      <pose>0.0894115 0.0175 0.09929950000000001 -1.5707963267948968 -0.0 -1.5707963267948968</pose>
      <plugin name="iCub_yarp_gazebo_plugin_IMU" filename="libgazebo_yarp_imu.so">
    <yarpConfigurationFile>model://iCub/conf_icub3/gazebo_icub_chest_inertial.ini</yarpConfigurationFile>
</plugin>
    </sensor>
  </gazebo>
  <sensor name="chest_imu_acc_1x1" type="accelerometer">
    <parent link="chest"/>
    <origin rpy="-1.5707963267948968 -0.0 -1.5707963267948968" xyz="0.0894115 0.0175 0.09929950000000001"/>
  </sensor>
  <gazebo>
    <pose>0.0 0.0 0.64 0.0 0.0 0.0</pose>
  </gazebo>
</robot>
